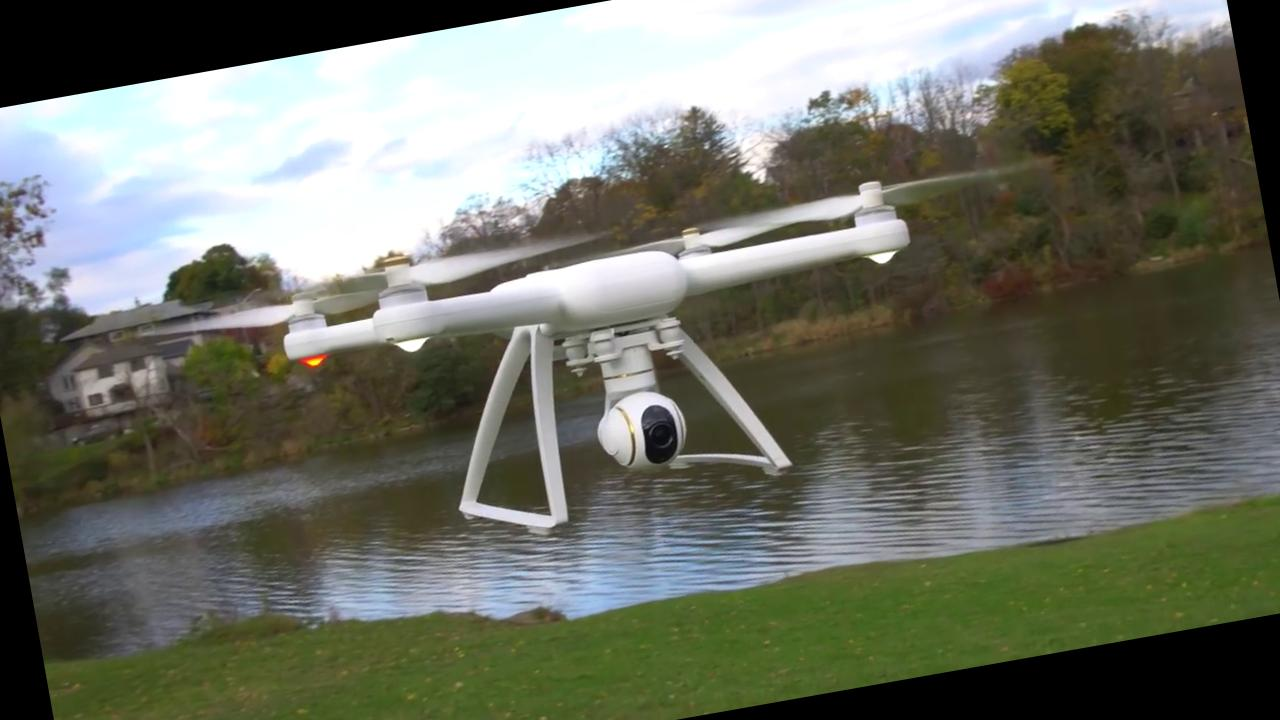drone: (121, 138, 999, 468)
